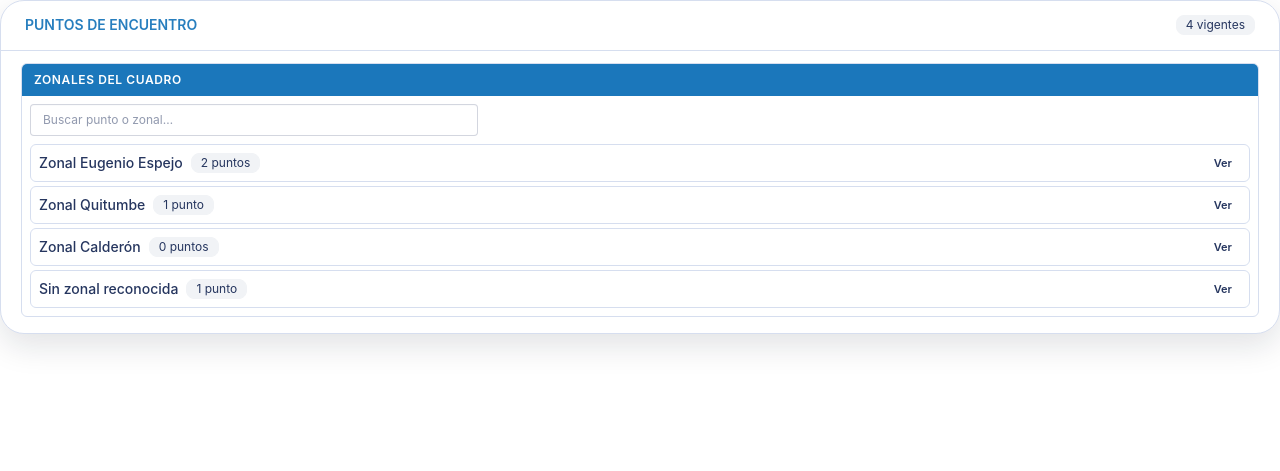
Test: los puntos se leen por zonal › un punto cuya zonal no está en el catálogo NO se pierde
Expected: the text "Sin zonal reconocida" is shown, x1=39 y1=279 x2=178 y2=299
Step 1. Click the button "Ver" in the row of "Sin zonal reconocida" → x=1223, y=289, box x1=1205 y1=277 x2=1241 y2=301
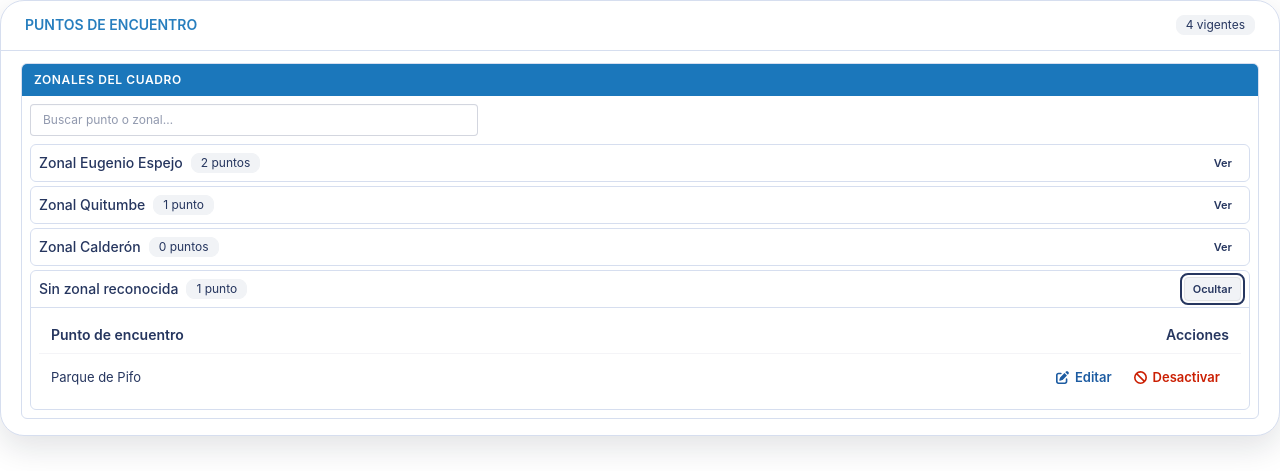
Result: the text "Parque de Pifo" is shown at x1=39 y1=354 x2=558 y2=401
